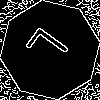L: (25, 25, 78, 74)
